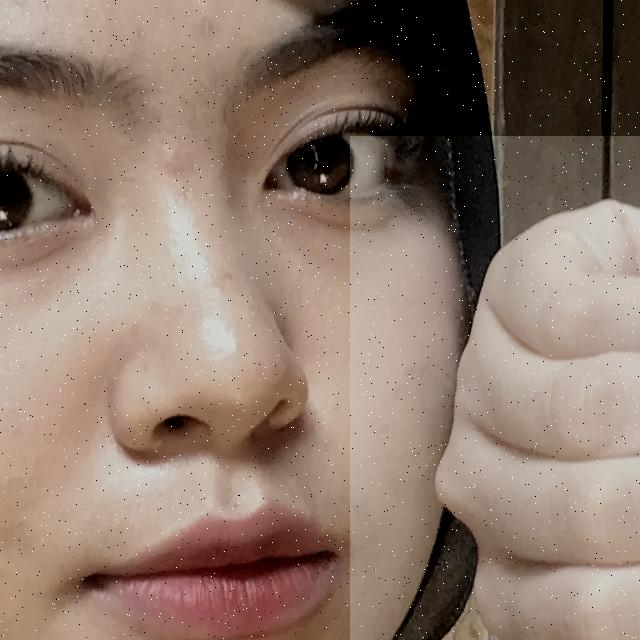sedih: (350, 136, 640, 640)
